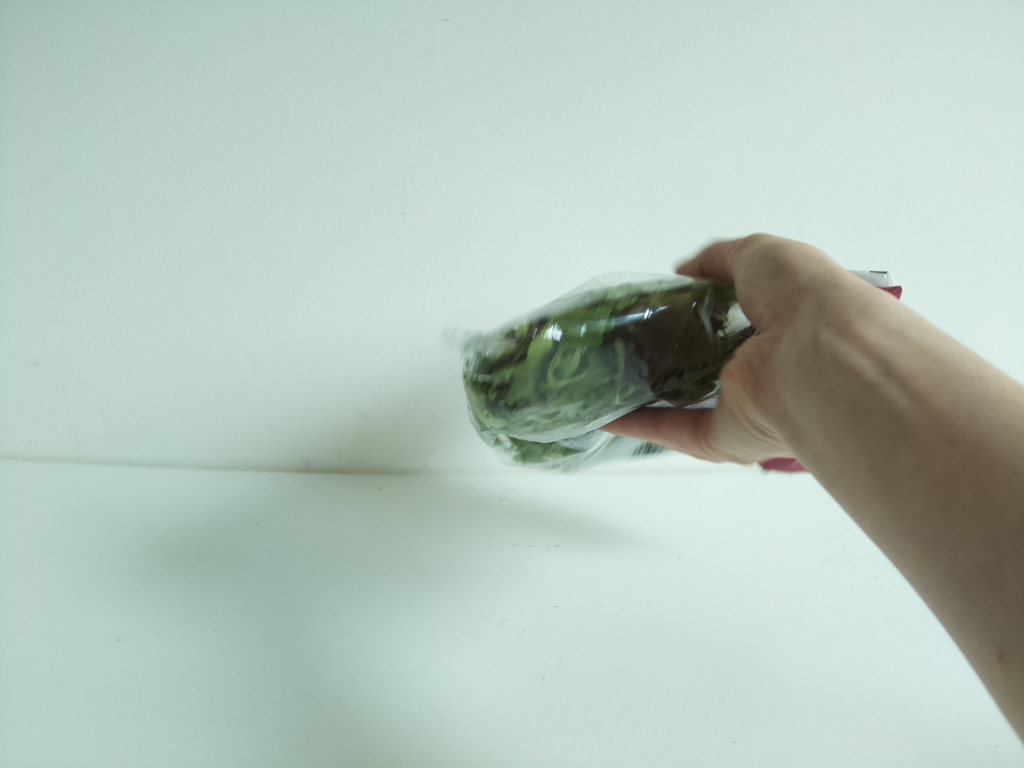salad: (456, 263, 752, 463)
